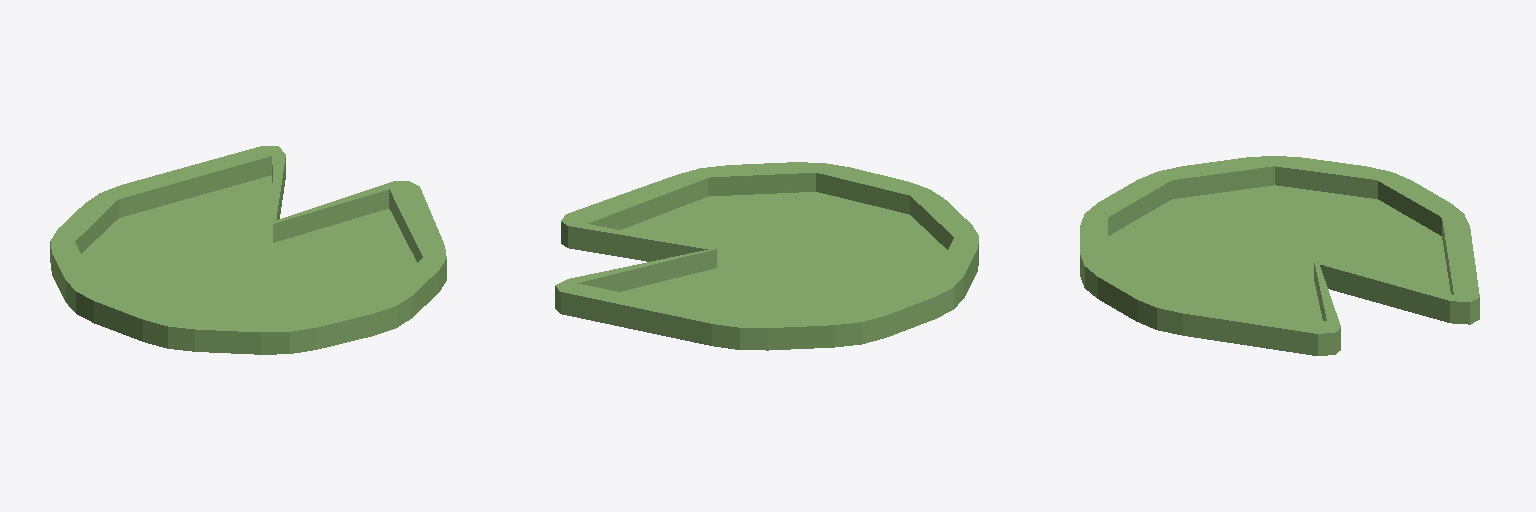
Rendered from LilypadOBJ.obj.
3 renders of one model, left to right at view 1: azimuth 30°, elevation 25°; view 2: azimuth 150°, elevation 25°; view 3: azimuth 270°, elevation 25°, orthographic.
Parts seen in each view (by area): view 1: pasted__pCylinder1.001_Mesh; view 2: pasted__pCylinder1.001_Mesh; view 3: pasted__pCylinder1.001_Mesh.
Boxes of the visible parts, <box> form: pasted__pCylinder1.001_Mesh: <box>50,146,446,354</box>; pasted__pCylinder1.001_Mesh: <box>555,162,978,350</box>; pasted__pCylinder1.001_Mesh: <box>1080,156,1479,355</box>.
Bounding box in the file's own units: 0.0207 × 0.0012 × 0.0196.